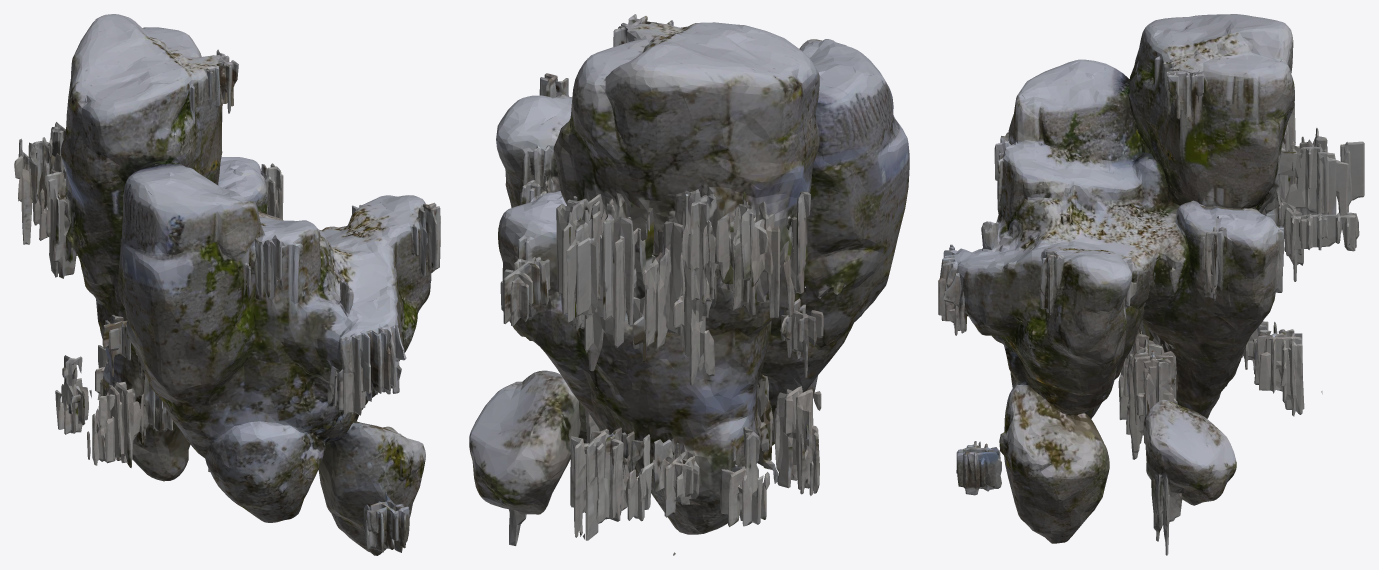
Rendered from snow-sky-rock-3.glb.
3 renders of one model, left to right at view 1: azimuth 30°, elevation 25°; view 2: azimuth 150°, elevation 25°; view 3: azimuth 270°, elevation 25°, orthographic. The views are drawn at different scales.
Parts seen in each view (by area): view 1: textured_mesh.obj; view 2: textured_mesh.obj; view 3: textured_mesh.obj.
Boxes of the visible parts, x1=… form: textured_mesh.obj: x1=14, y1=14, x2=440, y2=555; textured_mesh.obj: x1=469, y1=14, x2=909, y2=555; textured_mesh.obj: x1=938, y1=14, x2=1364, y2=555.
Size of the model in its own units: 1.36 by 1.99 by 1.7.
1 material, 1 textured.
